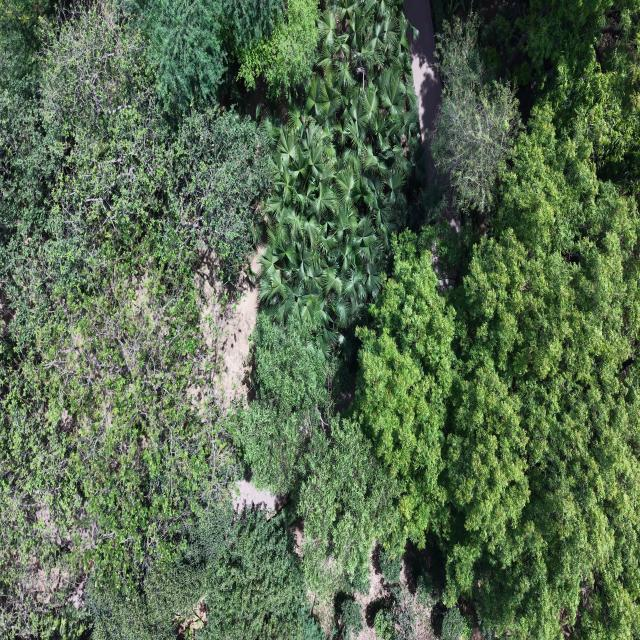DRY_AREA: (404, 0, 441, 181), (404, 0, 441, 180), (219, 273, 258, 404)
VEGETATION_TREE: (0, 0, 639, 639), (2, 4, 271, 637), (0, 5, 268, 636), (415, 78, 639, 638), (441, 107, 639, 637), (260, 0, 421, 357), (236, 314, 397, 598), (88, 503, 324, 639), (356, 232, 454, 546), (483, 0, 639, 193), (131, 0, 318, 113), (298, 418, 397, 597), (430, 15, 519, 212), (238, 314, 330, 494), (137, 0, 228, 112), (238, 0, 319, 96), (366, 573, 441, 639), (0, 0, 51, 96), (340, 598, 363, 639), (442, 608, 471, 639), (379, 547, 401, 583), (374, 608, 394, 639)
